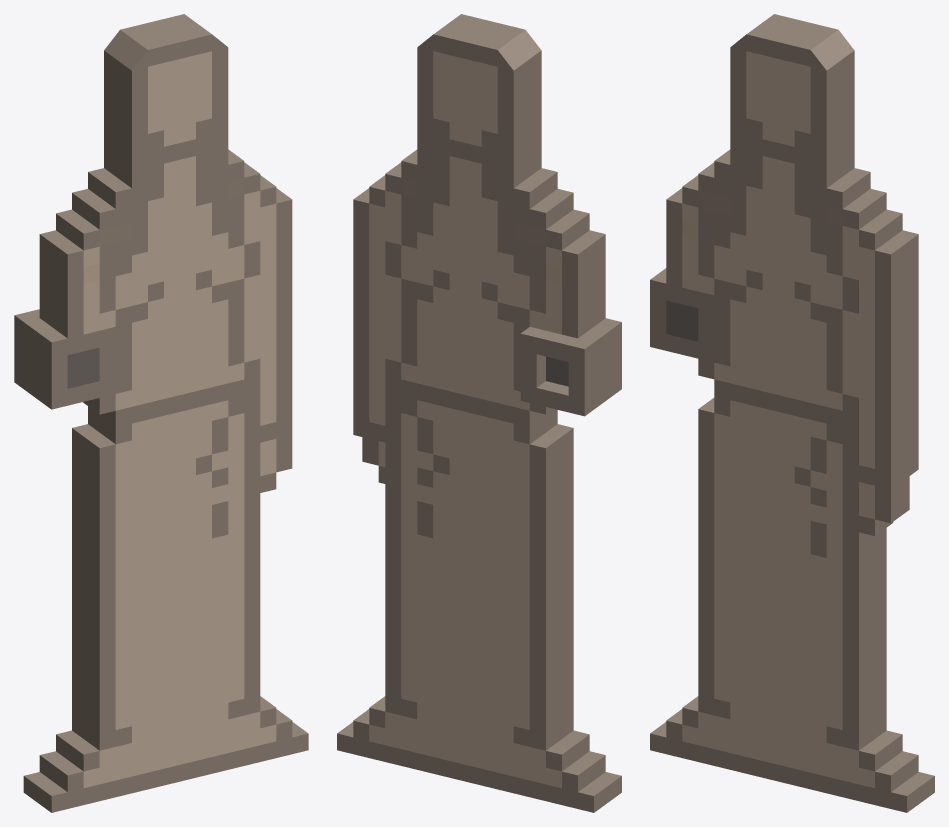
The model's file is PeplosKore.fbx.
3 renders of one model, left to right at view 1: azimuth 30°, elevation 25°; view 2: azimuth 150°, elevation 25°; view 3: azimuth 330°, elevation 25°, orthographic.
Visible parts, largest first — view 1: generated; view 2: generated; view 3: generated.
Boxes of the visible parts, x1,y1,x2,y2 form: generated: [14, 14, 308, 812]; generated: [337, 14, 621, 812]; generated: [650, 14, 934, 812].
Bounding box in the file's own units: 16 × 44 × 4.
